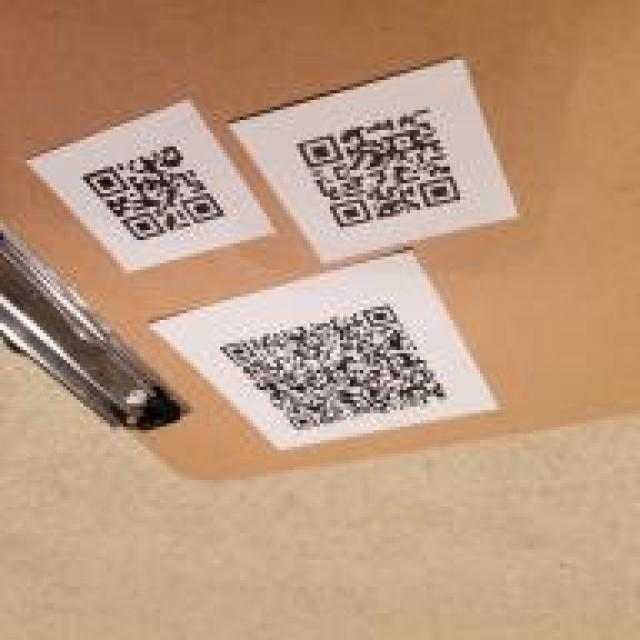qr_code: (219, 304, 447, 430), (297, 108, 461, 230), (82, 145, 226, 241)
